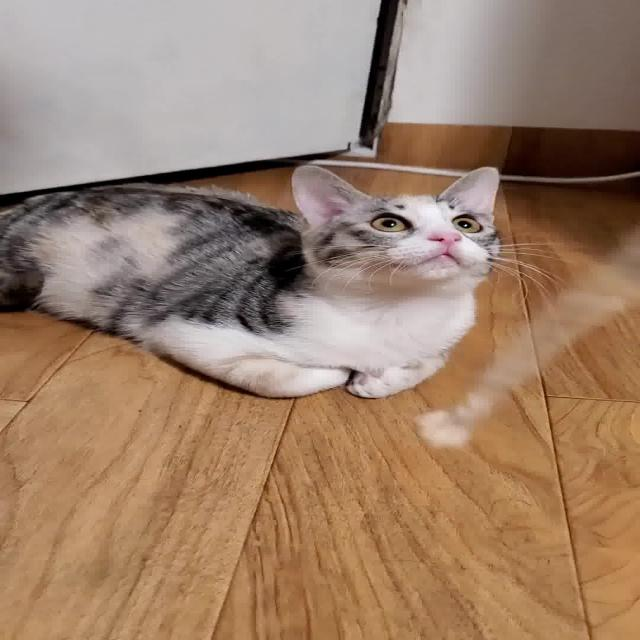cat: (1, 149, 569, 411)
